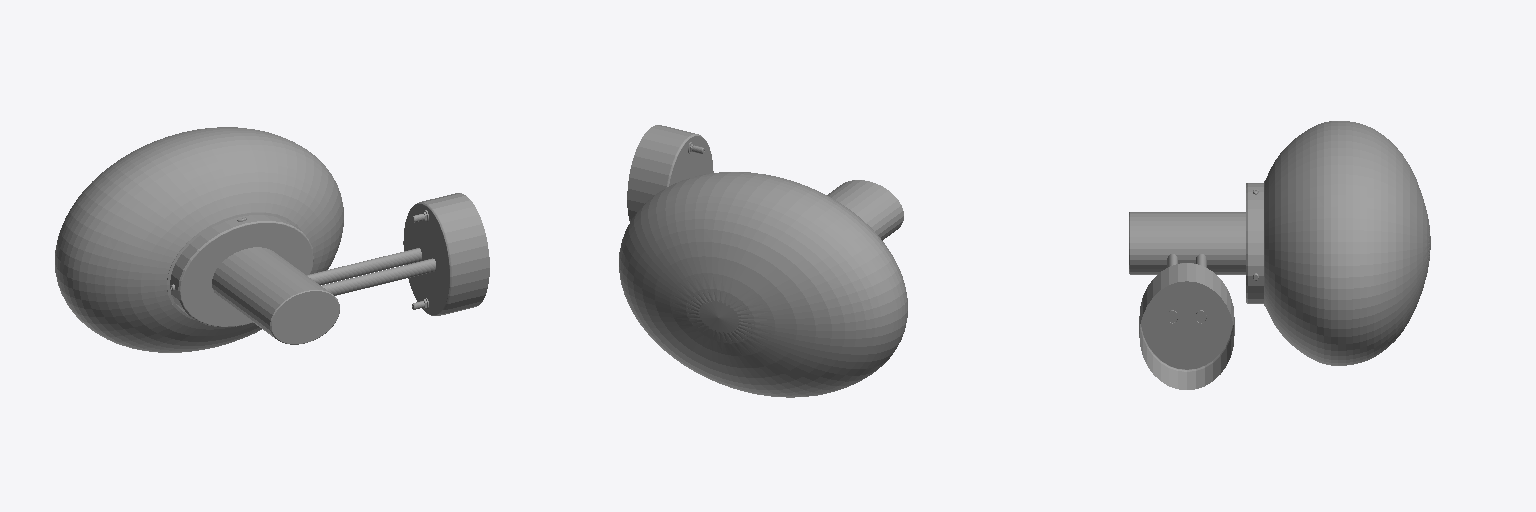
File: lampa.obj
3 views of the same model, side by side, from view 1: azimuth 30°, elevation 25°; view 2: azimuth 150°, elevation 25°; view 3: azimuth 270°, elevation 25° (orthographic).
Visible parts, largest first — view 1: sconce_02; view 2: sconce_02; view 3: sconce_02.
Part boxes in pixels (x1,y1,x2,y2): sconce_02: (55, 127, 489, 352); sconce_02: (619, 125, 907, 397); sconce_02: (1129, 121, 1430, 389).
Size of the model in its own units: 0.5 by 0.3 by 0.4.